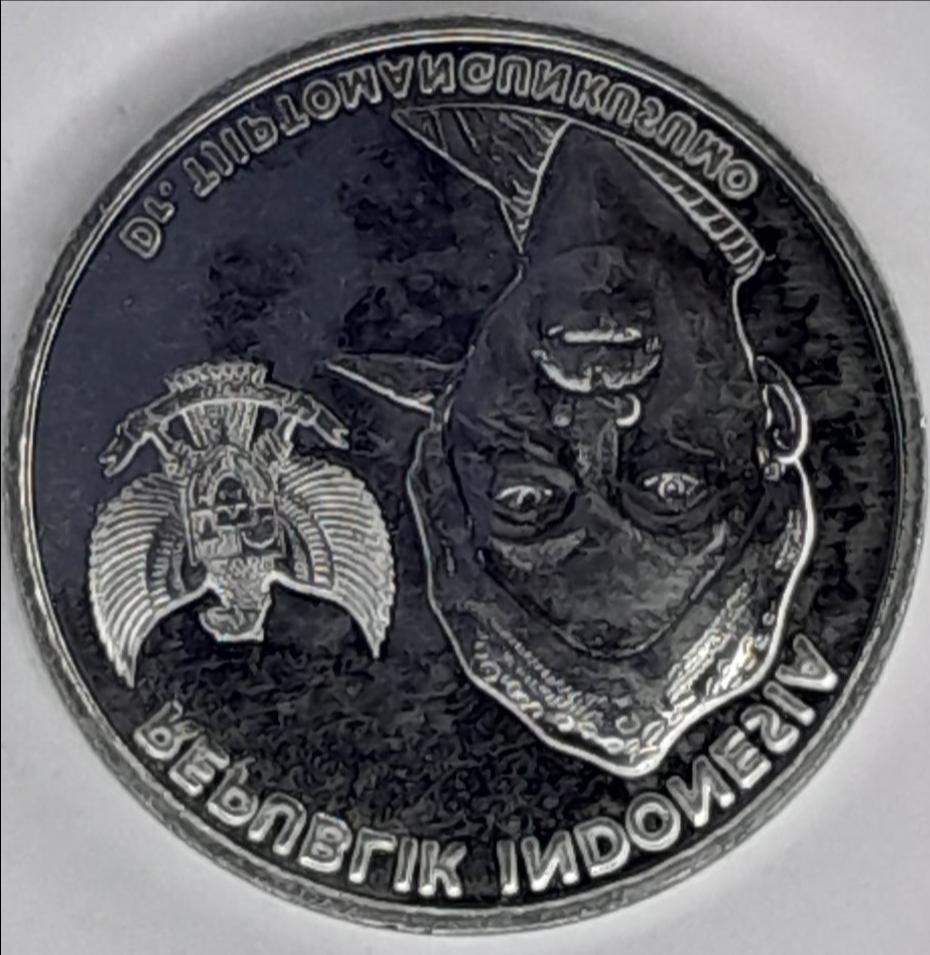coin_200_e2016: (0, 17, 930, 955)
